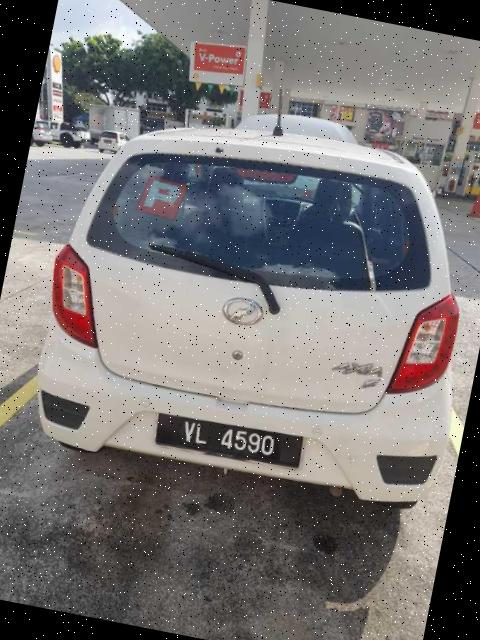License_Plate: (151, 408, 305, 472)
car: (20, 74, 480, 519)
